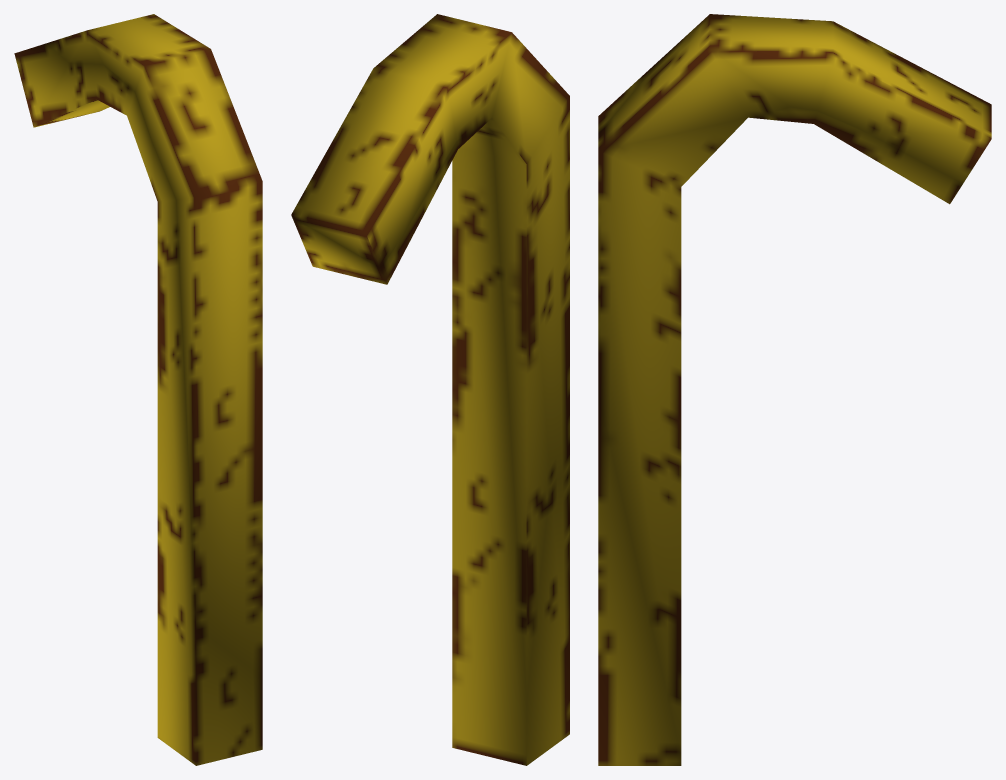
The model's file is Iron_Hook.fbx.
3 views of the same model, side by side, from view 1: azimuth 30°, elevation 25°; view 2: azimuth 150°, elevation 25°; view 3: azimuth 270°, elevation 25° (orthographic). The views are drawn at different scales.
Visible parts, largest first — view 1: Hook; view 2: Hook; view 3: Hook.
Part boxes in pixels (bbox=[...]): Hook: bbox=[14, 14, 262, 765]; Hook: bbox=[291, 14, 569, 765]; Hook: bbox=[598, 14, 991, 765].
Bounding box in the file's own units: 6.6 × 62.92 × 31.26.
